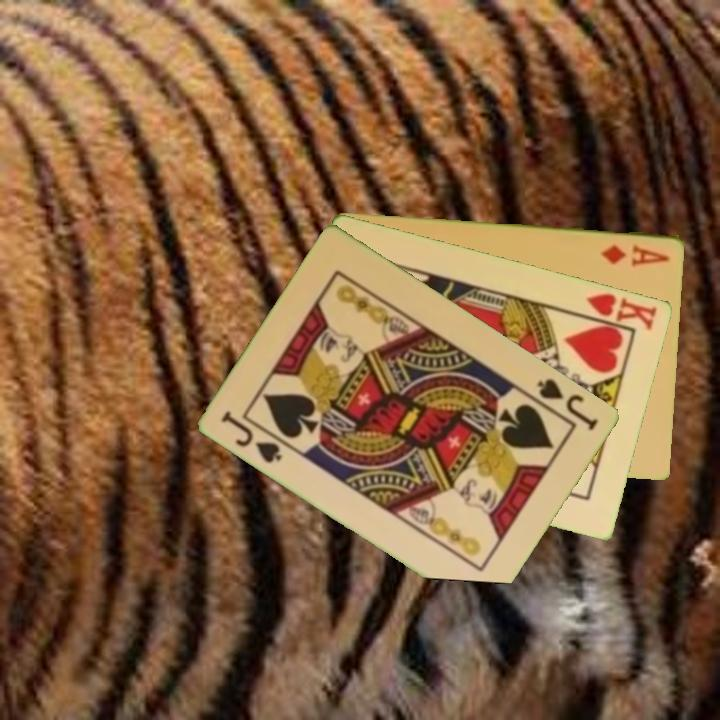Ad: (598, 240, 672, 269)
Js: (218, 407, 292, 466), (533, 374, 602, 434)
Kh: (575, 289, 661, 333)
